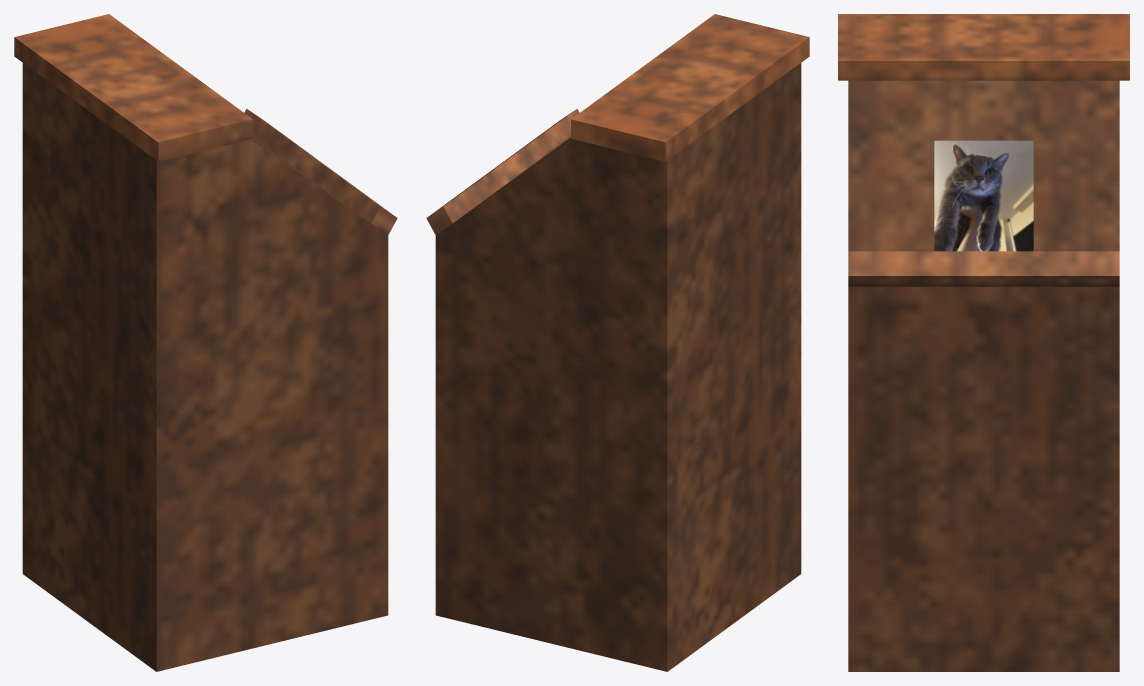
The model's file is BarPodium.fbx.
3 views of the same model, side by side, from view 1: azimuth 30°, elevation 25°; view 2: azimuth 150°, elevation 25°; view 3: azimuth 270°, elevation 25° (orthographic).
Visible parts, largest first — view 1: Podium; view 2: Podium; view 3: Podium, catkitty.jph.
Part boxes in pixels (left/top/right/bottom): Podium: left=14, top=14, right=397, bottom=671; Podium: left=426, top=14, right=809, bottom=671; Podium: left=838, top=14, right=1129, bottom=671; catkitty.jph: left=934, top=140, right=1033, bottom=251.
Bounding box in the file's own units: 87.56 × 183 × 89.27.
